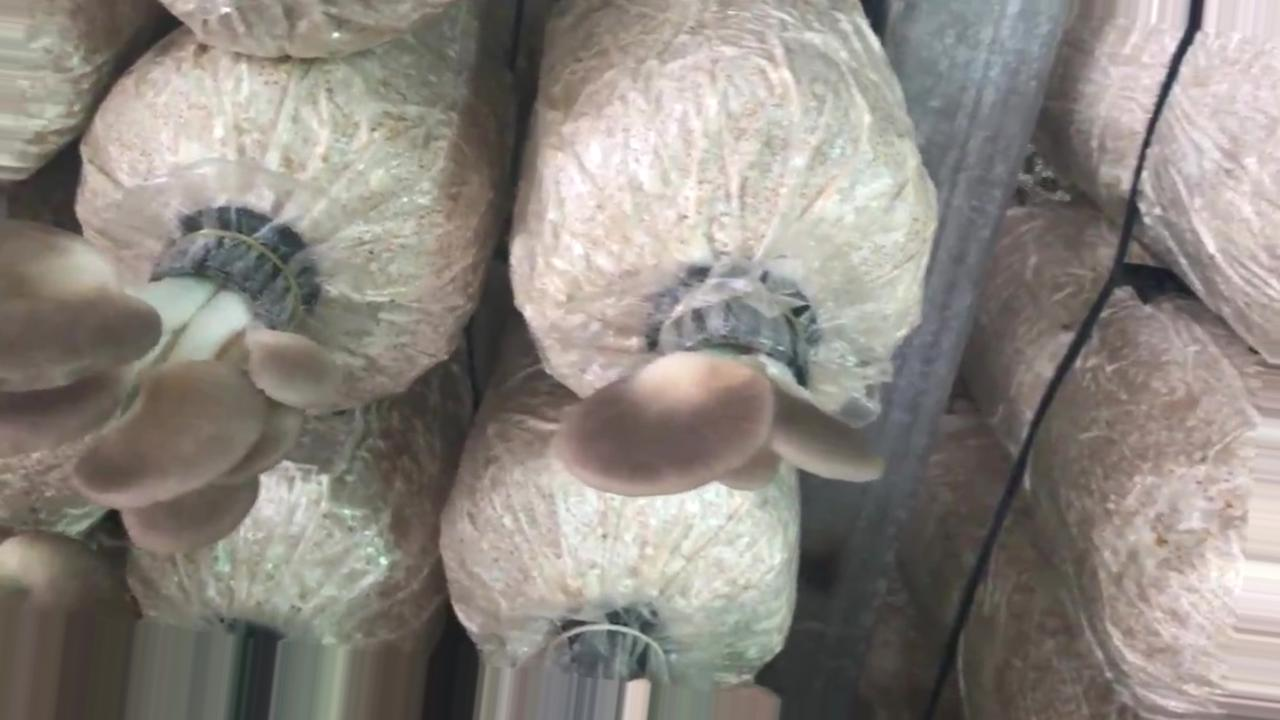nam: (1, 216, 349, 554), (552, 291, 886, 502)
